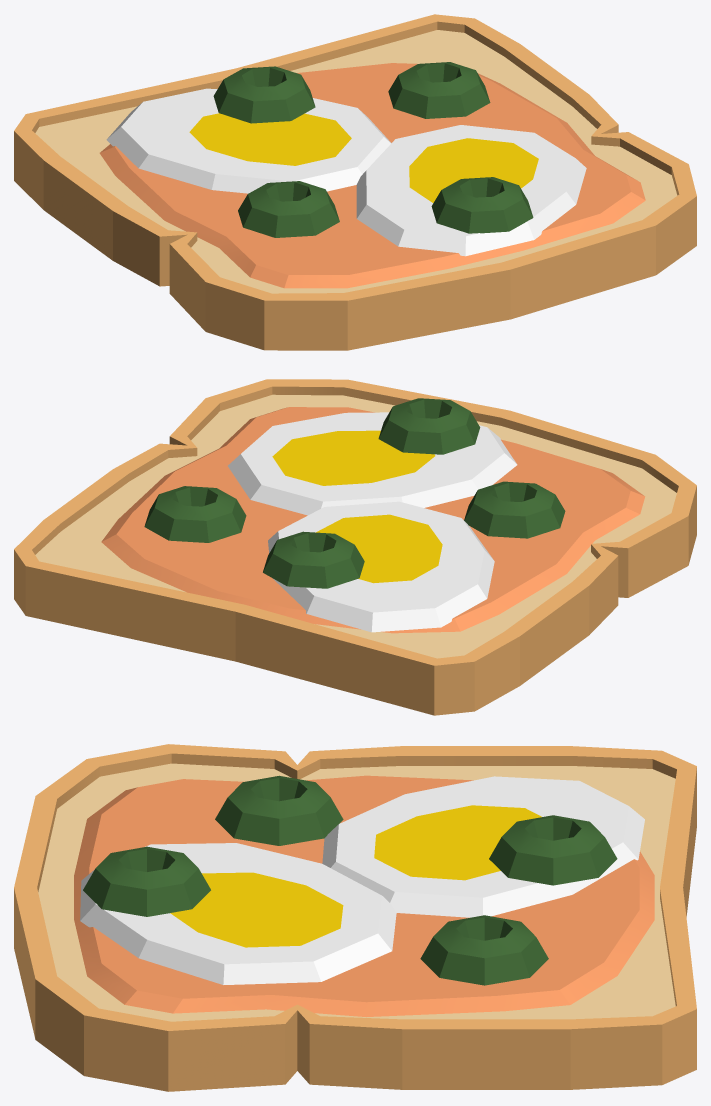
File: PW_frenchtoast_olives.fbx
3 views of the same model, one above another, from view 1: azimuth 30°, elevation 25°; view 2: azimuth 150°, elevation 25°; view 3: azimuth 270°, elevation 25° (orthographic). The views are drawn at different scales.
Parts seen in each view (by area): view 1: bread, eggs, cheese, olives; view 2: bread, eggs, cheese, olives; view 3: bread, eggs, cheese, olives.
Boxes of the visible parts, x1,y1,x2,y2 form: bread: (14,14,696,350); eggs: (106,88,586,256); cheese: (99,63,645,288); olives: (213,62,533,237); bread: (14,379,696,715); eggs: (228,412,517,632); cheese: (101,407,645,633); olives: (144,398,565,588); bread: (14,744,696,1091); eggs: (80,776,644,984); cheese: (74,775,654,1017); olives: (83,775,617,985).
Bounding box in the file's own units: 34.12 × 5.81 × 34.32.
1 material, 1 textured.
